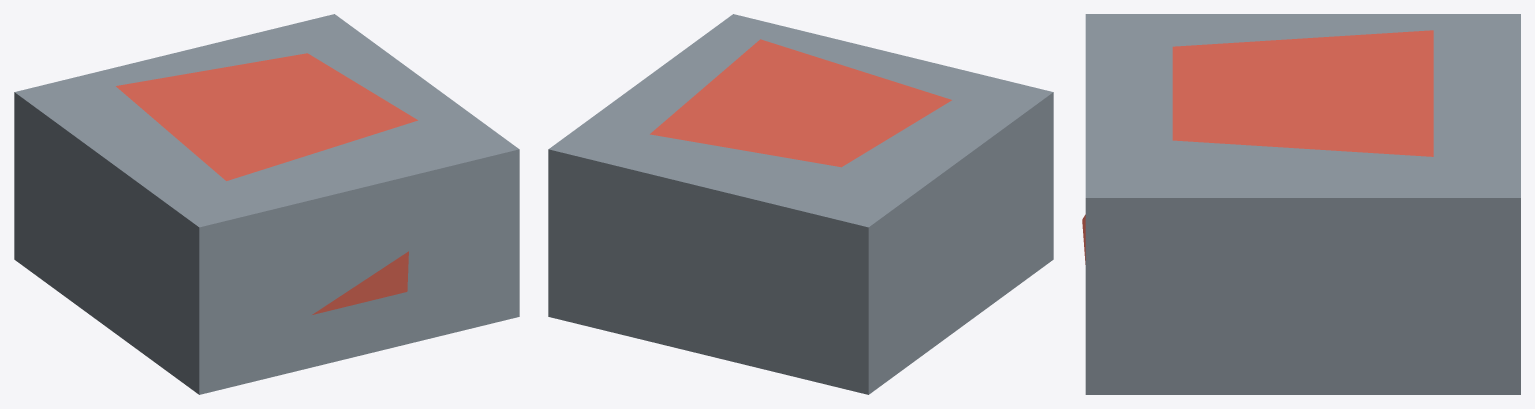
The model's file is SU_Bunker_LOD1.glb.
3 views of the same model, side by side, from view 1: azimuth 30°, elevation 25°; view 2: azimuth 150°, elevation 25°; view 3: azimuth 270°, elevation 25° (orthographic). The views are drawn at different scales.
Visible parts, largest first — view 1: EntranceGate; view 2: EntranceGate; view 3: EntranceGate.
Boxes of the visible parts, box(x1,y1,x2,y2) form: EntranceGate: box(14, 14, 519, 394); EntranceGate: box(548, 14, 1053, 394); EntranceGate: box(1082, 14, 1520, 394).
Bounding box in the file's own units: 400 × 221 × 403.
